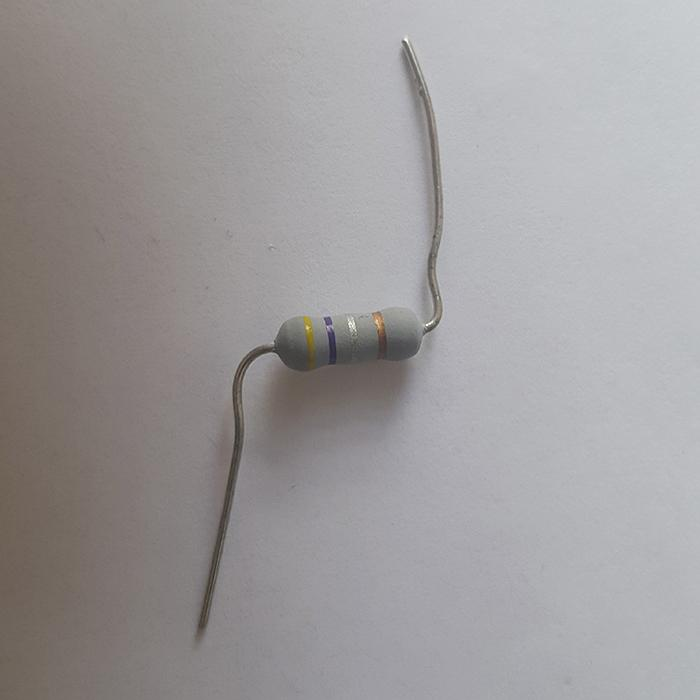resistor: (274, 306, 420, 371)
